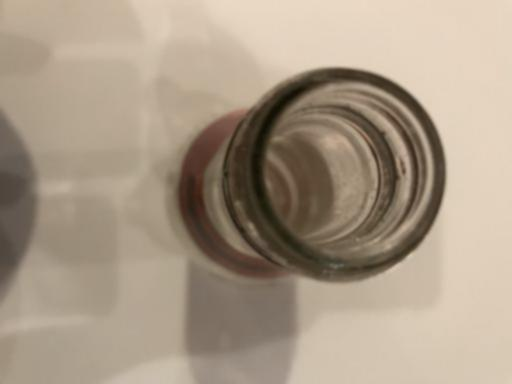glass: (177, 65, 447, 283)
sodocalcique: (177, 65, 447, 283)
